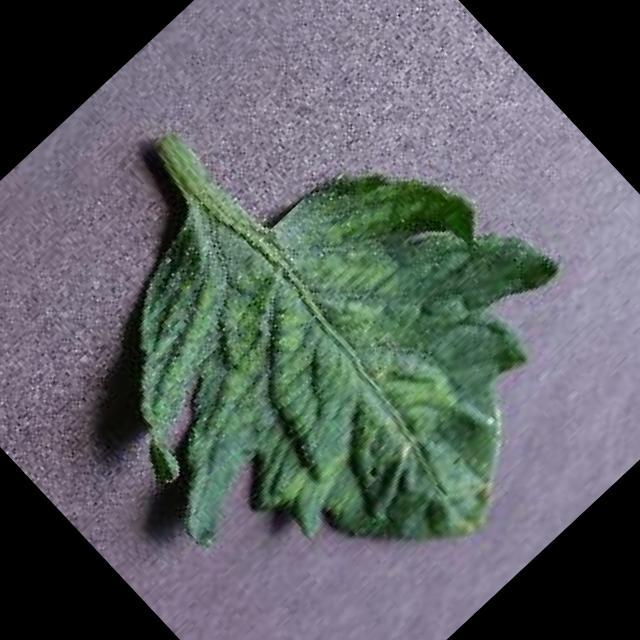Tomato mosaic virus leaf: (29, 54, 640, 640)
